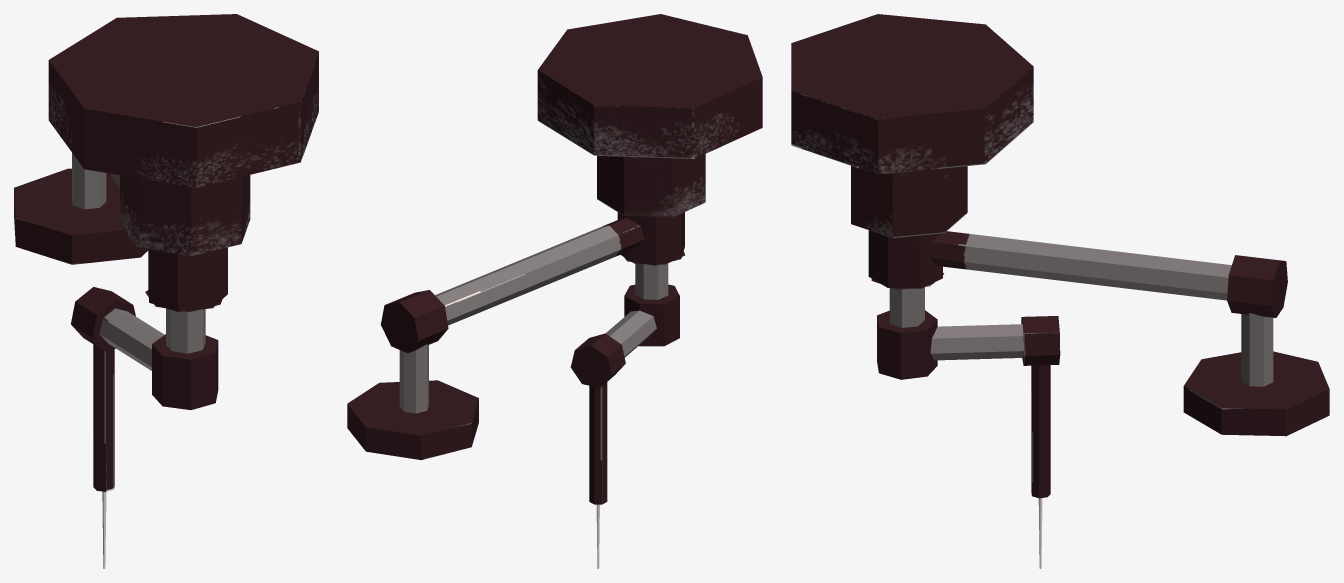
Rendered from Env_Machine_Surgical.fbx.
3 views of the same model, side by side, from view 1: azimuth 30°, elevation 25°; view 2: azimuth 150°, elevation 25°; view 3: azimuth 270°, elevation 25° (orthographic). The views are drawn at different scales.
Parts seen in each view (by area): view 1: Surgical_Machine, Top_Rotor, Lower_Rotor; view 2: Surgical_Machine, Top_Rotor, Lower_Rotor; view 3: Surgical_Machine, Top_Rotor, Lower_Rotor.
Boxes of the visible parts, x1=… form: Surgical_Machine: x1=48, y1=14, x2=318, y2=353; Top_Rotor: x1=14, y1=153, x2=227, y2=311; Lower_Rotor: x1=71, y1=287, x2=218, y2=568; Surgical_Machine: x1=537, y1=14, x2=762, y2=299; Top_Rotor: x1=347, y1=212, x2=684, y2=460; Lower_Rotor: x1=570, y1=284, x2=679, y2=568; Surgical_Machine: x1=791, y1=14, x2=1033, y2=327; Top_Rotor: x1=868, y1=230, x2=1329, y2=436; Lower_Rotor: x1=877, y1=310, x2=1060, y2=568.
Size of the model in its own units: 78.2 by 149 by 144.
